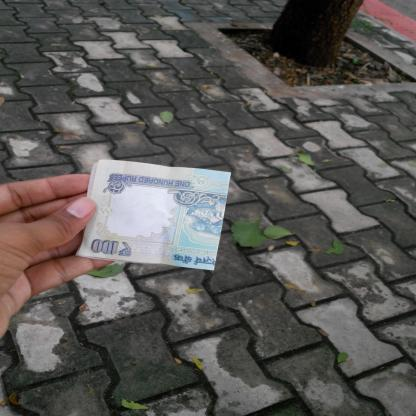Old100Back: (74, 159, 232, 271)
